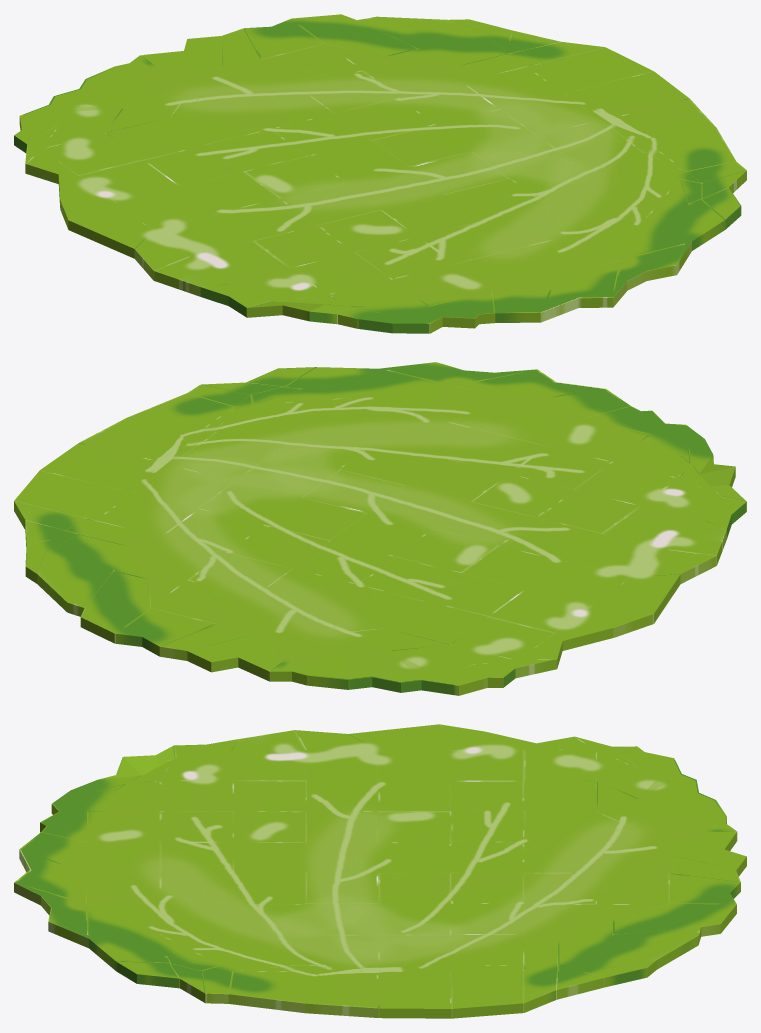
The model's file is lettuce.glb.
The picture shows the model from 3 angles, top to bottom: view 1: azimuth 30°, elevation 25°; view 2: azimuth 150°, elevation 25°; view 3: azimuth 270°, elevation 25°; orthographic projection. The views are drawn at different scales.
Parts seen in each view (by area): view 1: Cube; view 2: Cube; view 3: Cube.
Boxes of the visible parts, x1=… form: Cube: x1=14, y1=14, x2=746, y2=333; Cube: x1=14, y1=362, x2=746, y2=695; Cube: x1=14, y1=724, x2=746, y2=1018.
Size of the model in its own units: 16.12 by 0.4202 by 17.53.
Materials: 1 (1 with a texture image).
